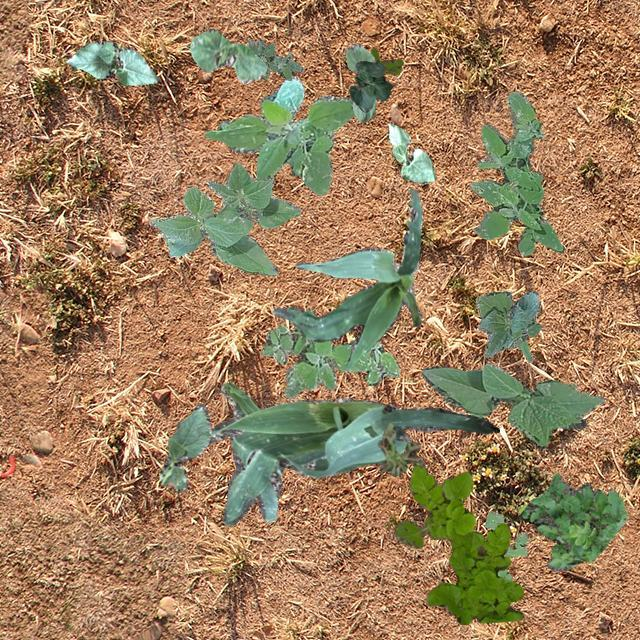crop: (206, 382, 498, 524), (272, 186, 422, 368), (204, 74, 354, 194), (150, 162, 300, 274), (421, 362, 604, 444), (158, 402, 210, 492), (476, 290, 540, 360), (188, 28, 268, 82), (64, 40, 158, 84), (386, 122, 434, 182), (344, 44, 374, 122), (348, 60, 392, 112)
weed: (393, 464, 522, 624), (468, 90, 564, 254), (260, 308, 398, 398), (518, 472, 626, 570), (483, 510, 528, 580), (376, 422, 424, 476), (246, 37, 302, 80), (370, 46, 402, 74)
